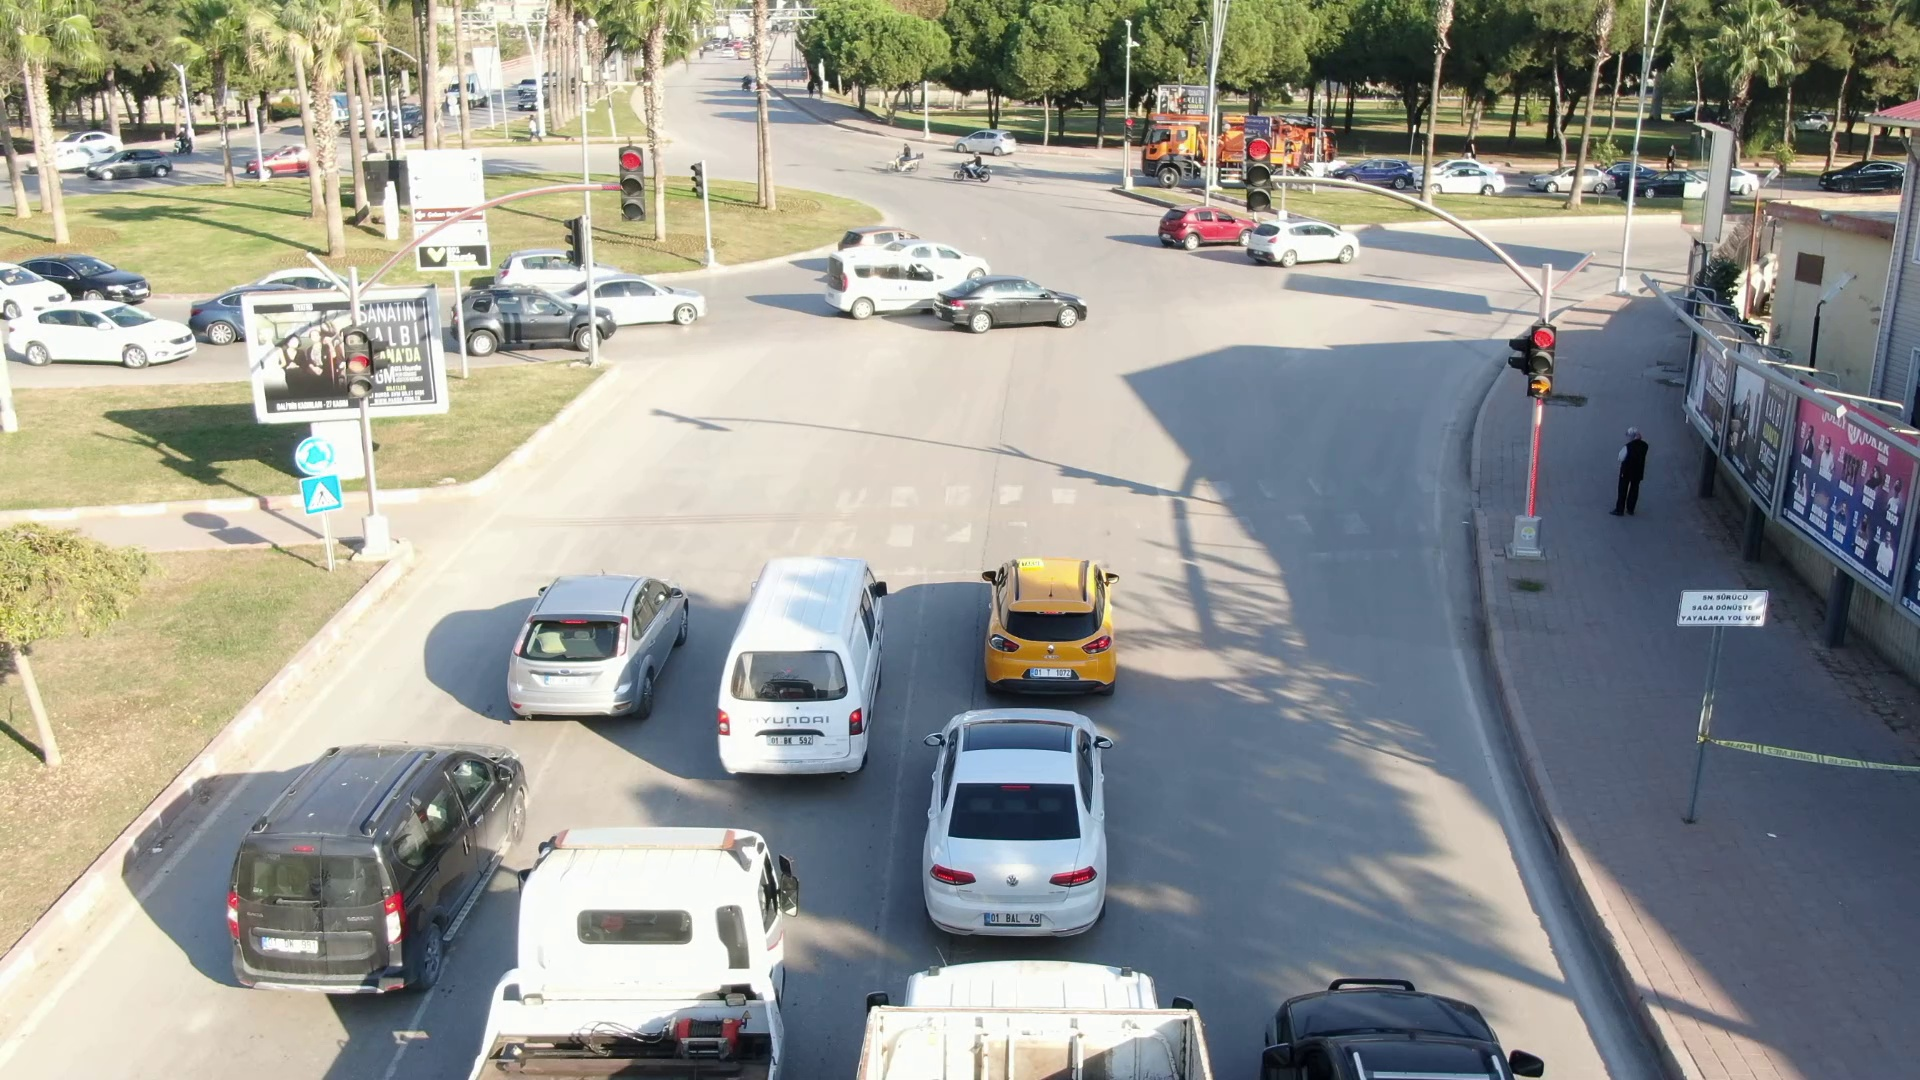car: (220, 737, 529, 1000), (922, 700, 1114, 939), (713, 554, 895, 779), (502, 567, 695, 728), (975, 554, 1126, 698), (7, 294, 200, 373), (448, 284, 615, 353), (930, 274, 1093, 334), (1245, 218, 1362, 273), (1153, 204, 1255, 251), (1817, 158, 1909, 195), (84, 145, 175, 181), (1414, 164, 1509, 196), (1530, 164, 1622, 196), (949, 124, 1021, 156)
